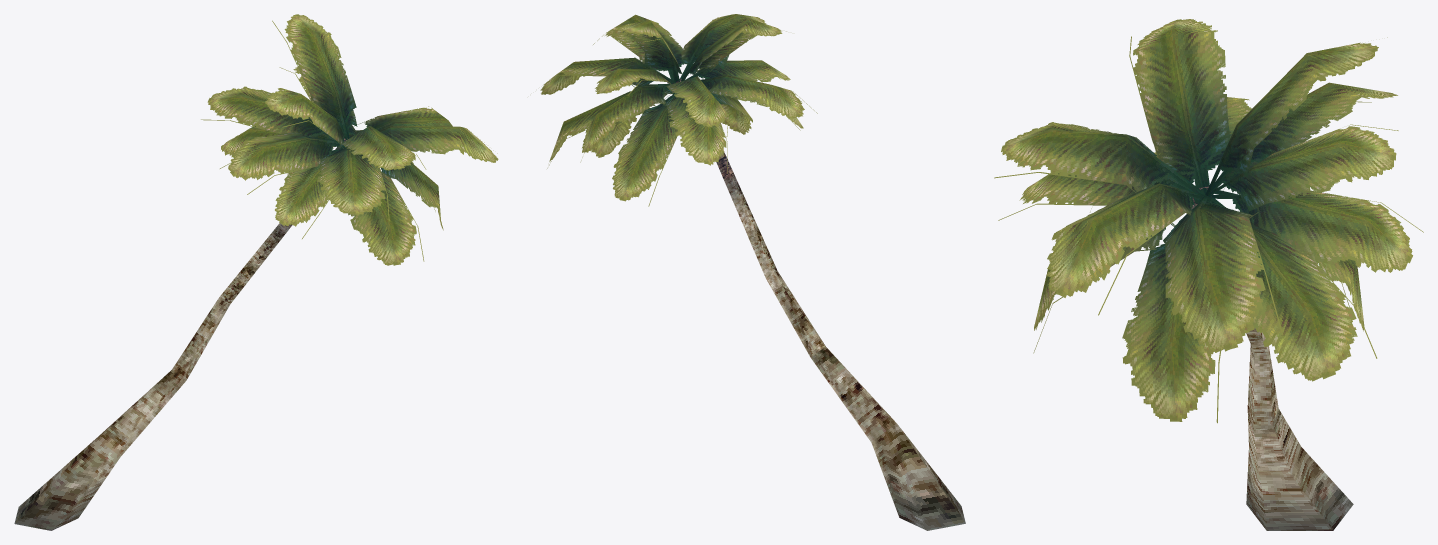
File: stage-beac-p2-82.glb
The picture shows the model from 3 angles, left to right: view 1: azimuth 30°, elevation 25°; view 2: azimuth 150°, elevation 25°; view 3: azimuth 270°, elevation 25°; orthographic projection. The views are drawn at different scales.
Bounding box in the file's own units: 13.81 × 12.87 × 7.33.
1 material, 1 textured.
